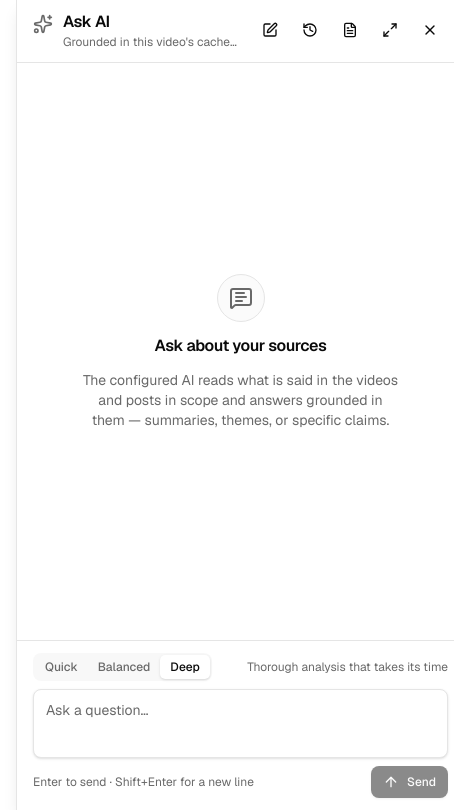
Test: ChatPanel — streaming a turn › surfaces stream errors inline above the composer and restores the draft
This screenshot has width=464, height=810.
Type "Hello?" into the text box named "Your message" at (240, 720), box [34,690,447,750]
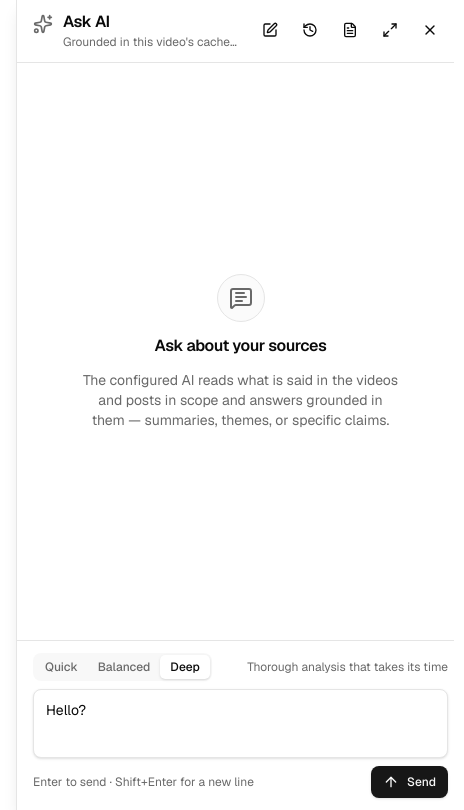
Click the button "Send" at (410, 782), box [371,766,448,798]
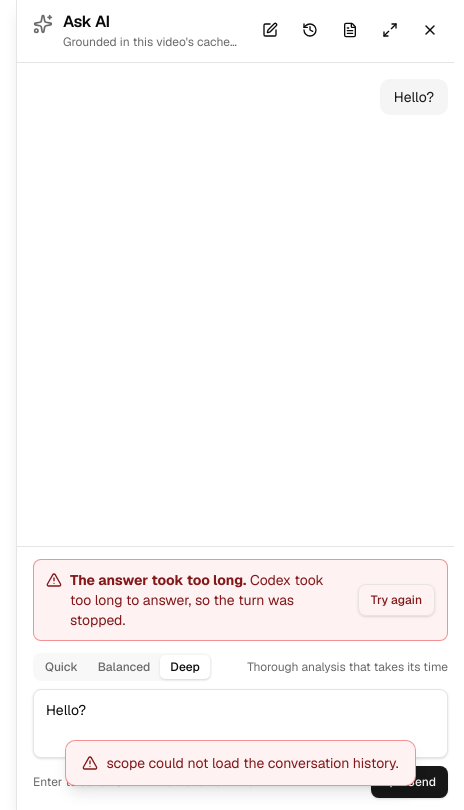
Expected: the text "Codex took too long to answer, so the turn was stopped." is shown, [70,571,324,629]
Expected: the text "Hello?" is shown, [380,79,448,115]
